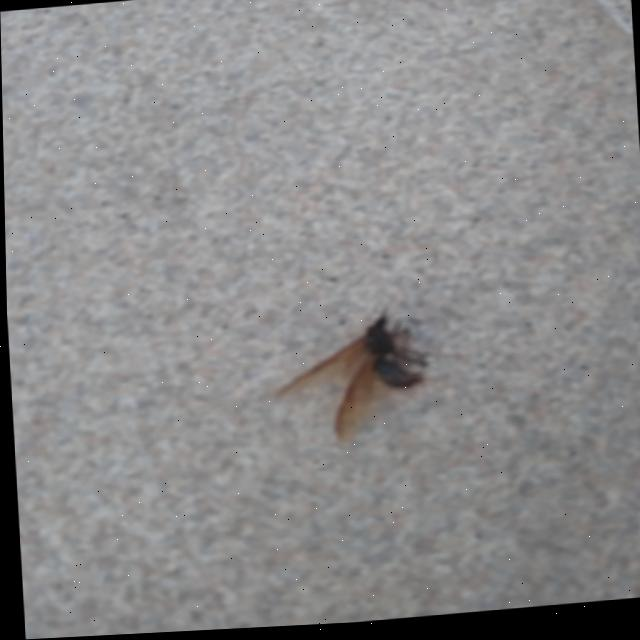Dead-Male-Alate: (269, 296, 430, 451)
